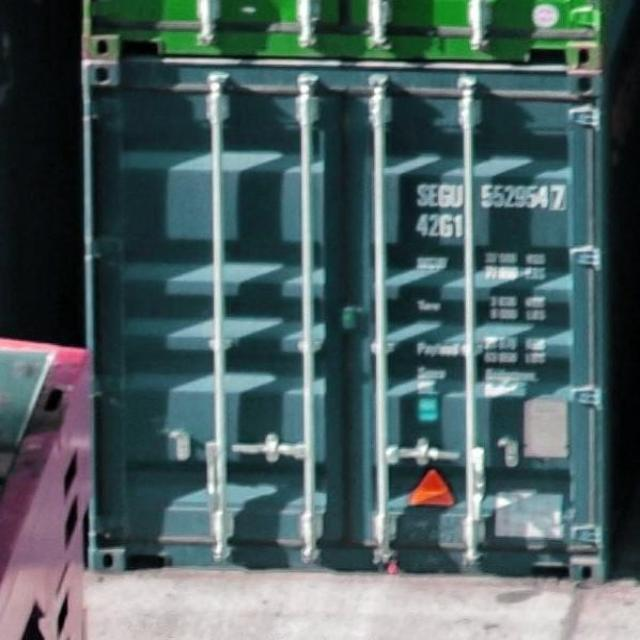ISO: (418, 213, 465, 240)
container_number: (413, 180, 569, 210)
